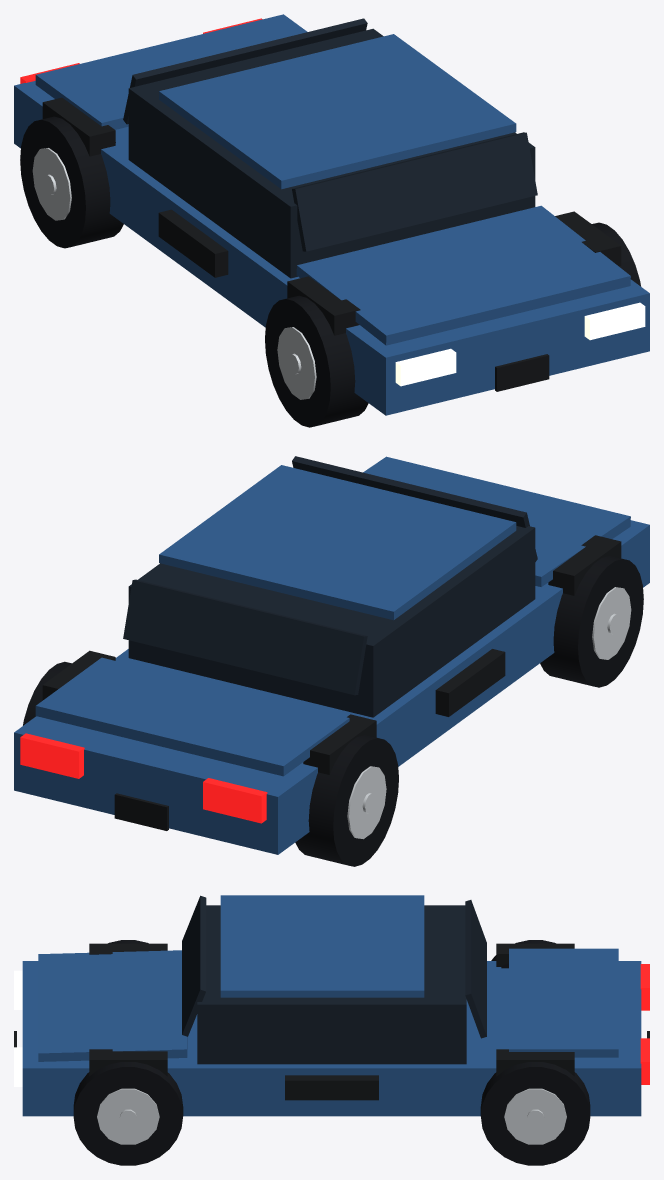
Rendered from sedan.glb.
3 views of the same model, one above another, from view 1: azimuth 30°, elevation 25°; view 2: azimuth 150°, elevation 25°; view 3: azimuth 270°, elevation 25° (orthographic). The views are drawn at different scales.
Bounding box in the file's own units: 1.97 × 1.12 × 4.06.
